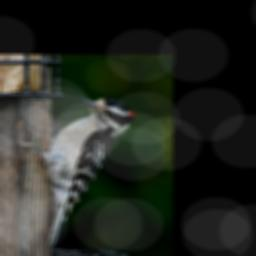Woodpecker: (17, 96, 134, 253)
